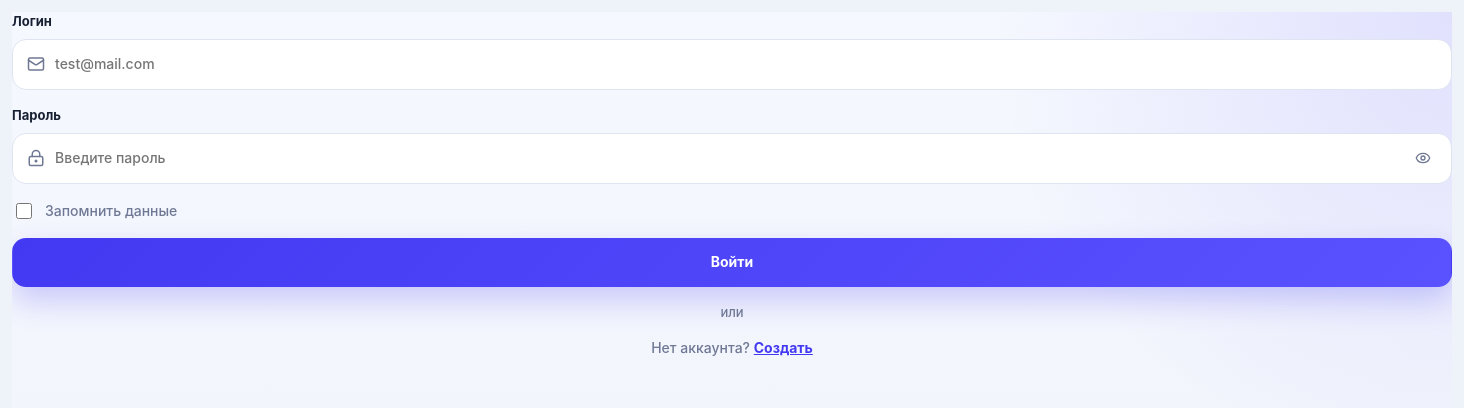
Scenario: LoginForm › should display API error message on login failure
The width and height of the screenshot is (1464, 408).
In the field labelled "Логин": (746, 64) [55, 40, 1437, 89], type "wrong"
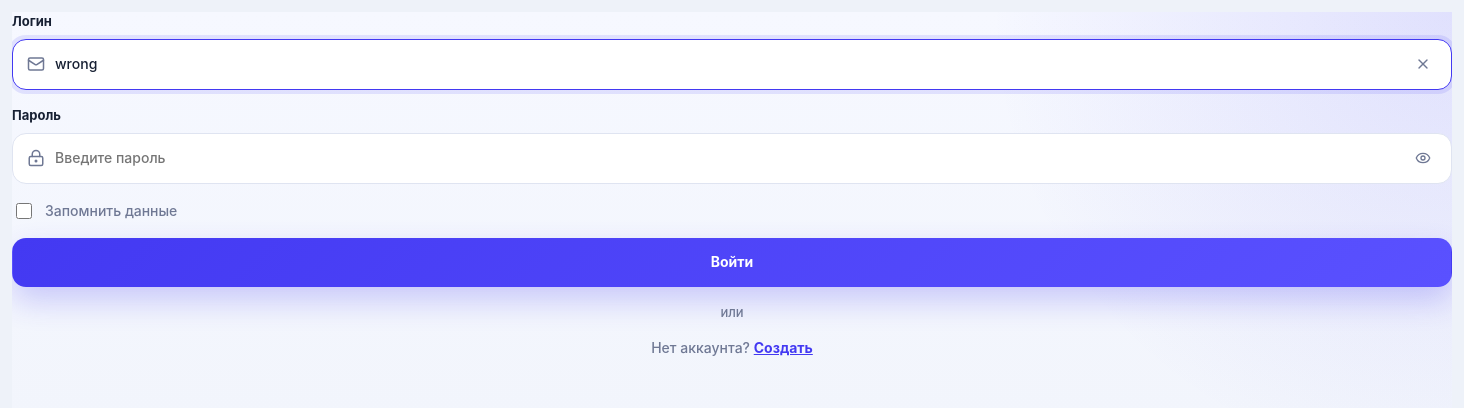
In the password field labelled "Пароль": (727, 158) [55, 134, 1399, 183], type "wrong"
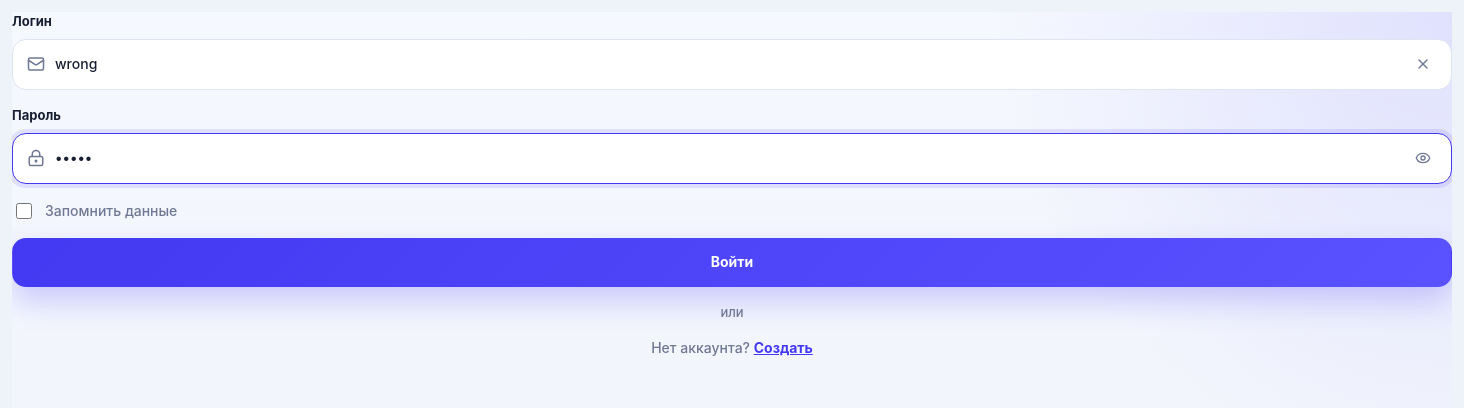
Click the button "Войти": (732, 263) [12, 238, 1452, 287]
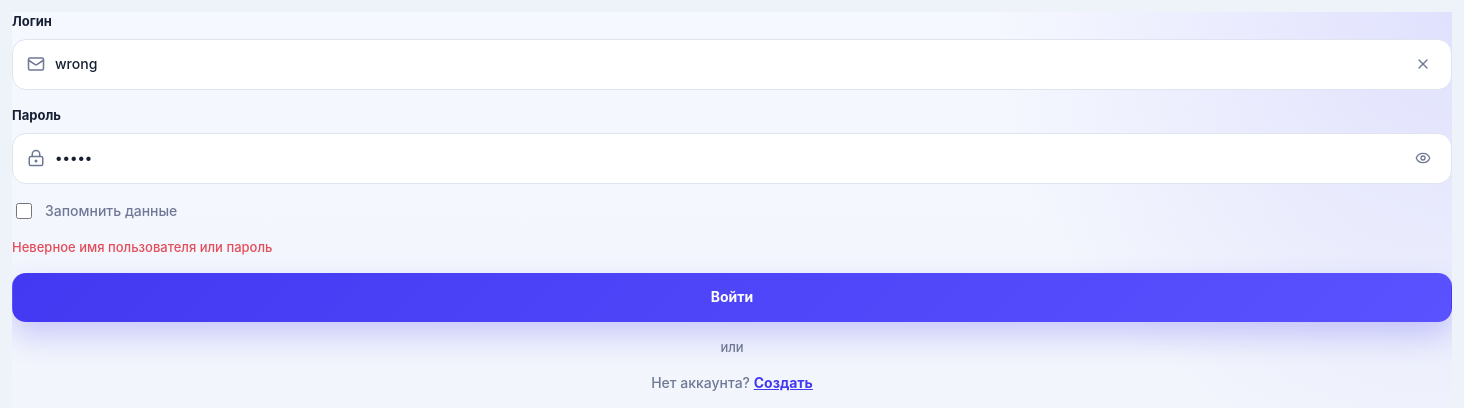
Check: the text "Неверное имя пользователя или пароль" is shown, box [12, 239, 272, 255]
